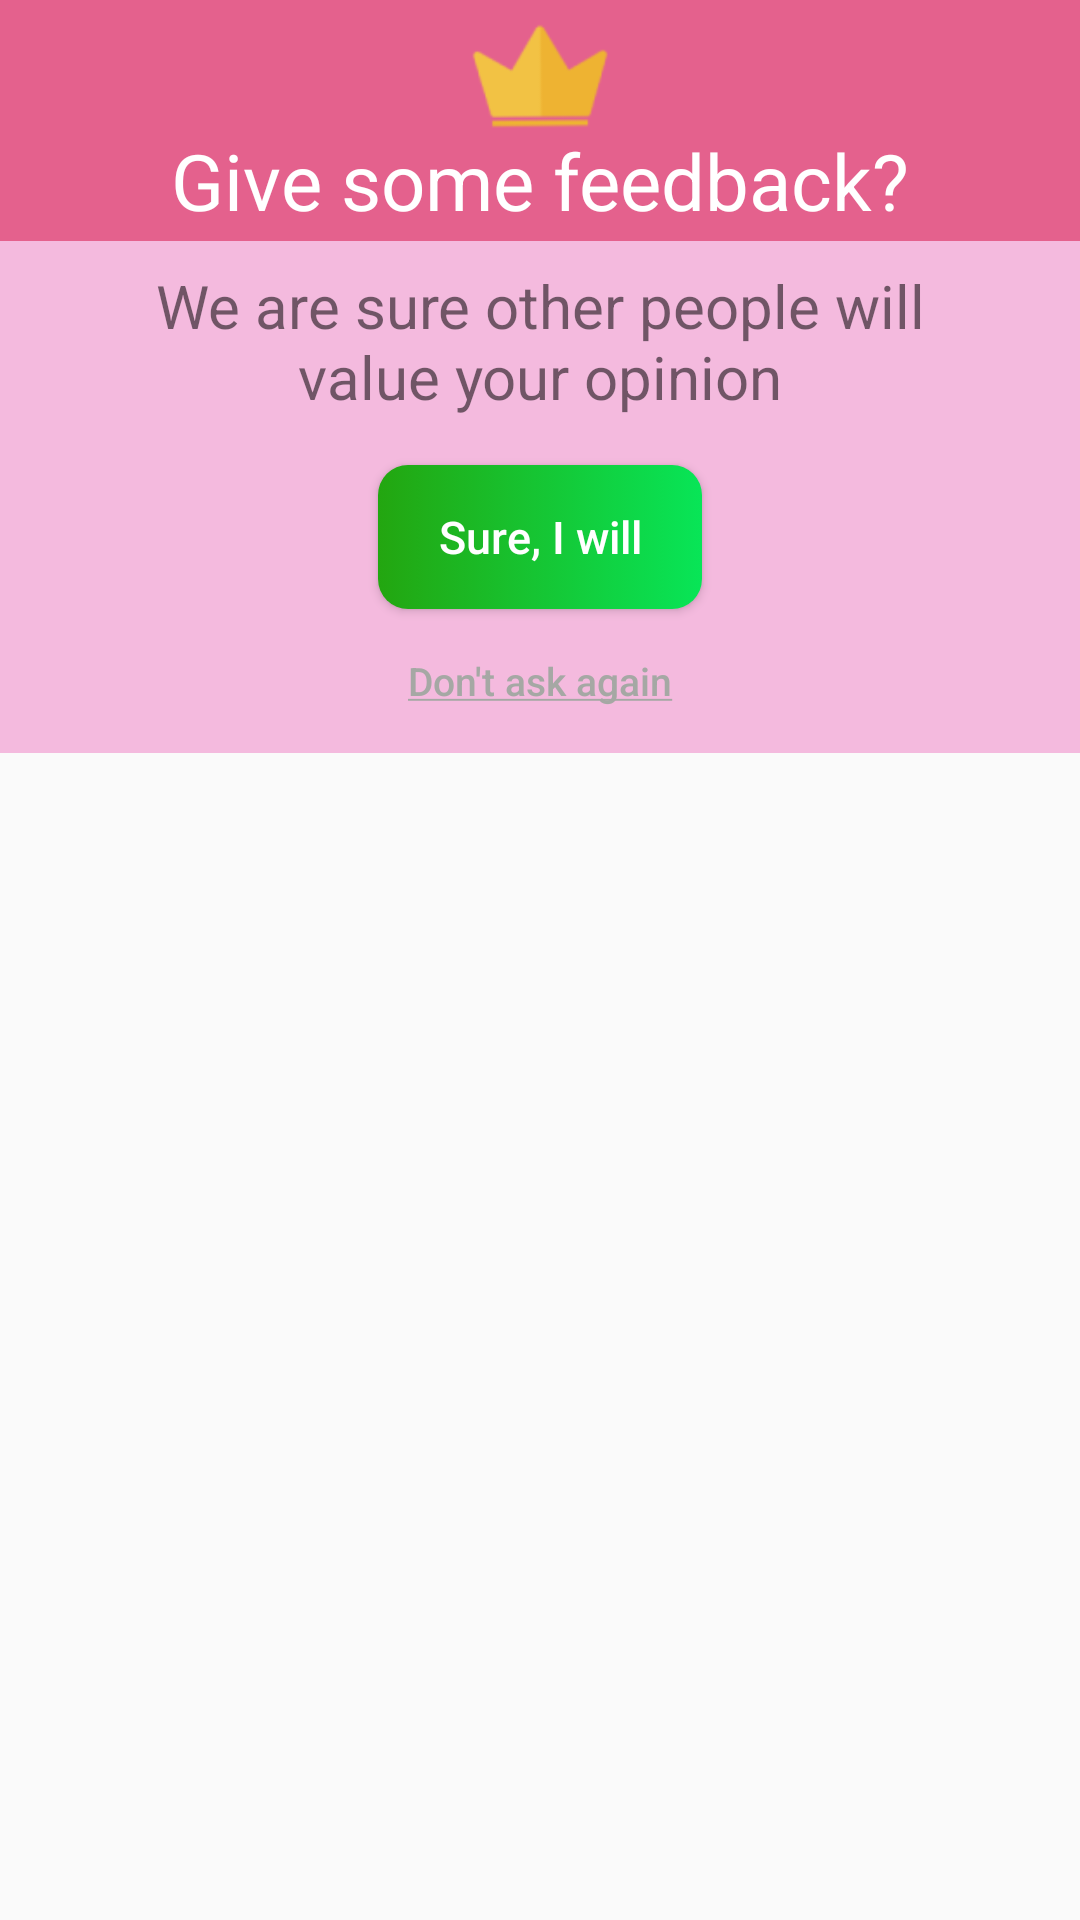

Icon bounding boxes for this 1080w x 1920h phone screenshot, format (x1, y1, x2, y2):
crown: (473, 26, 607, 127)
